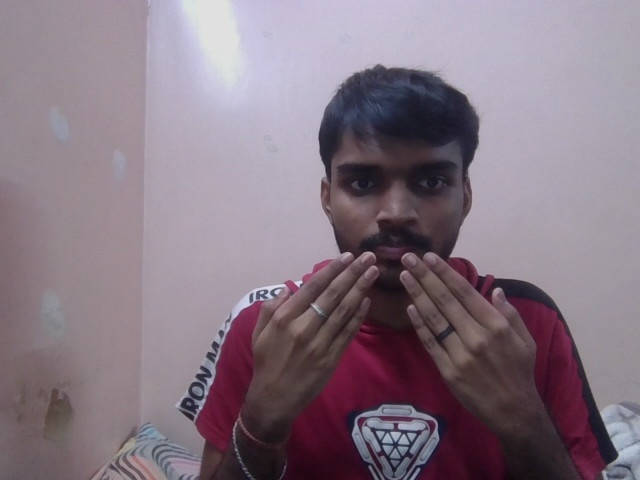Thank You: (255, 248, 540, 423)
